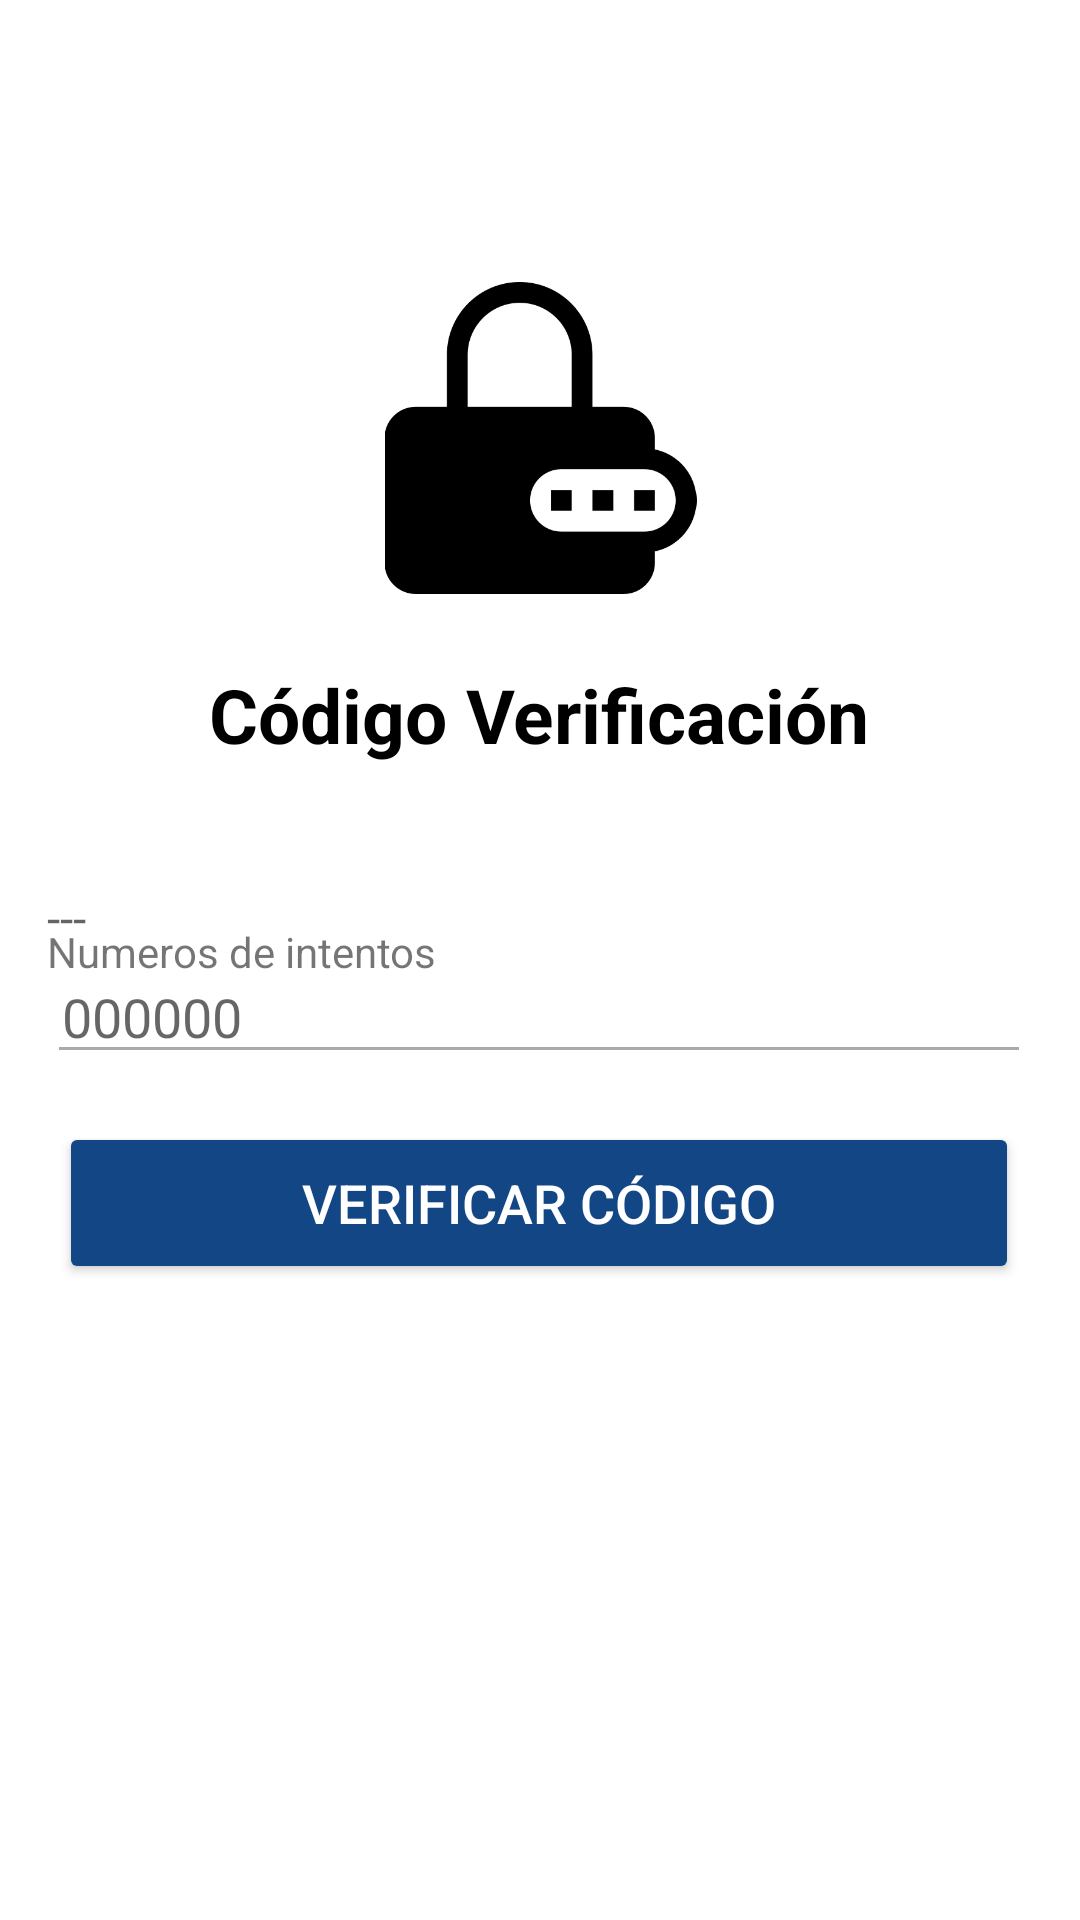

Locate icon controls on the screen. Image size 1080 × 1920, boxes as (x1, y1, x2, y2).
pass: (385, 282, 697, 594)
